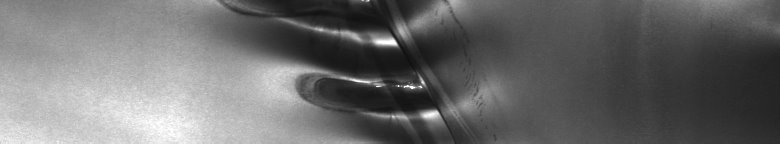ke: (216, 4, 487, 136)
